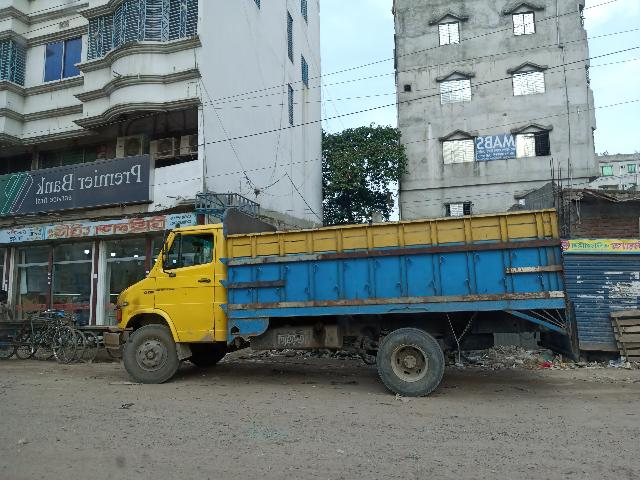truck: (94, 179, 577, 410)
